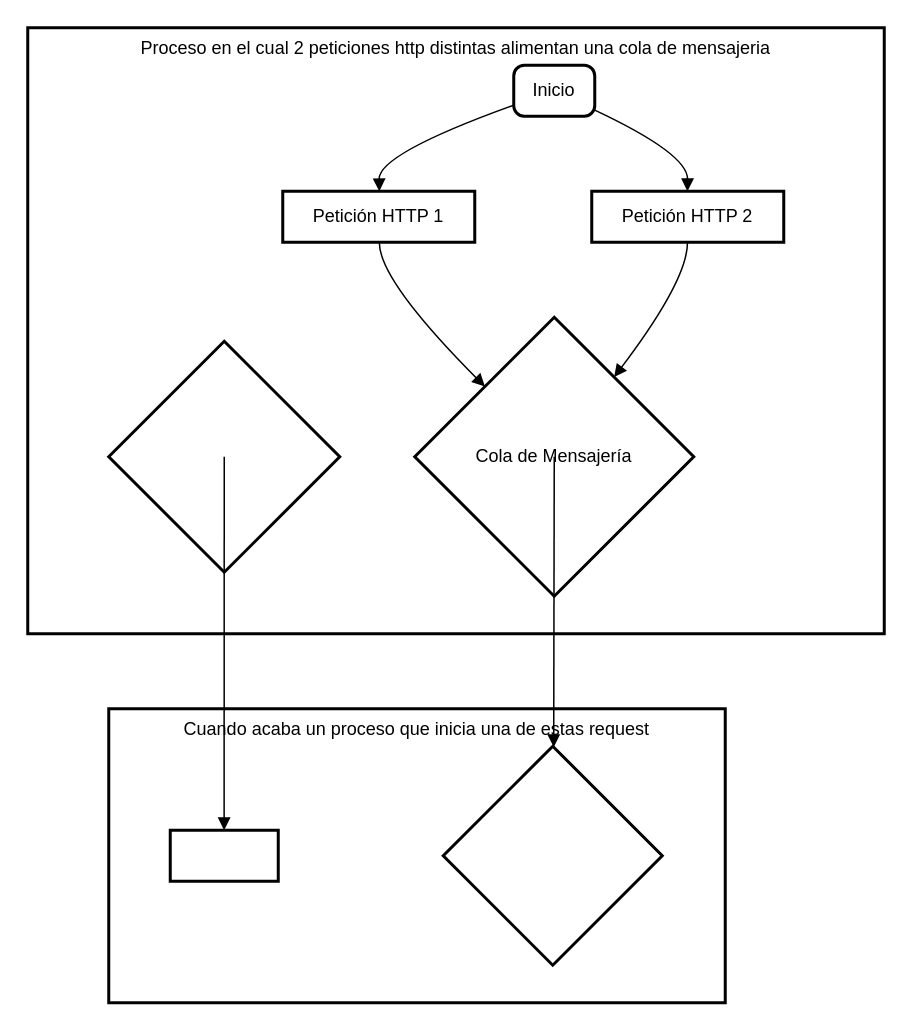
This 911x1029 diagram has some shape labels left out. Here are the shapes that lost their labels. From the top down, the centre of each, then its label:
At pixel 223 456: "Fin de proceso".
At pixel 223 855: "Servicio".
At pixel 552 855: "Procesar Cola".
